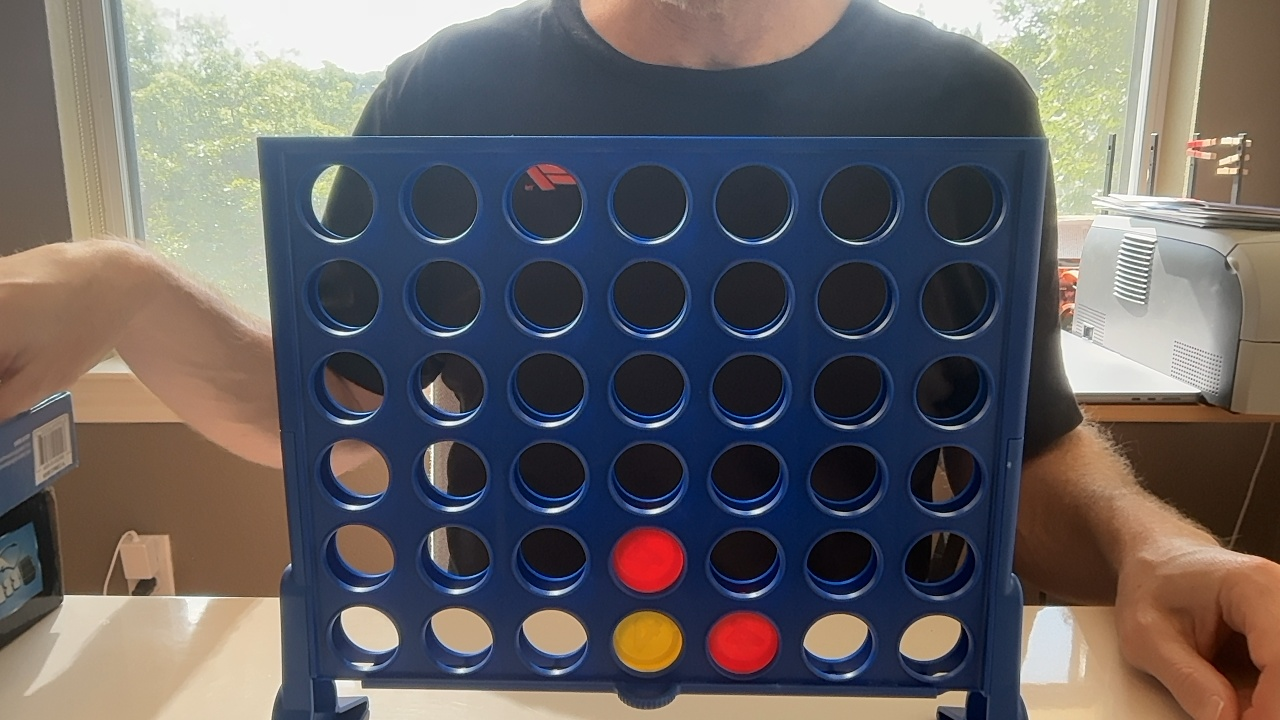red piece: (611, 528, 685, 593), (708, 611, 779, 675)
yellow piece: (613, 611, 682, 672)
